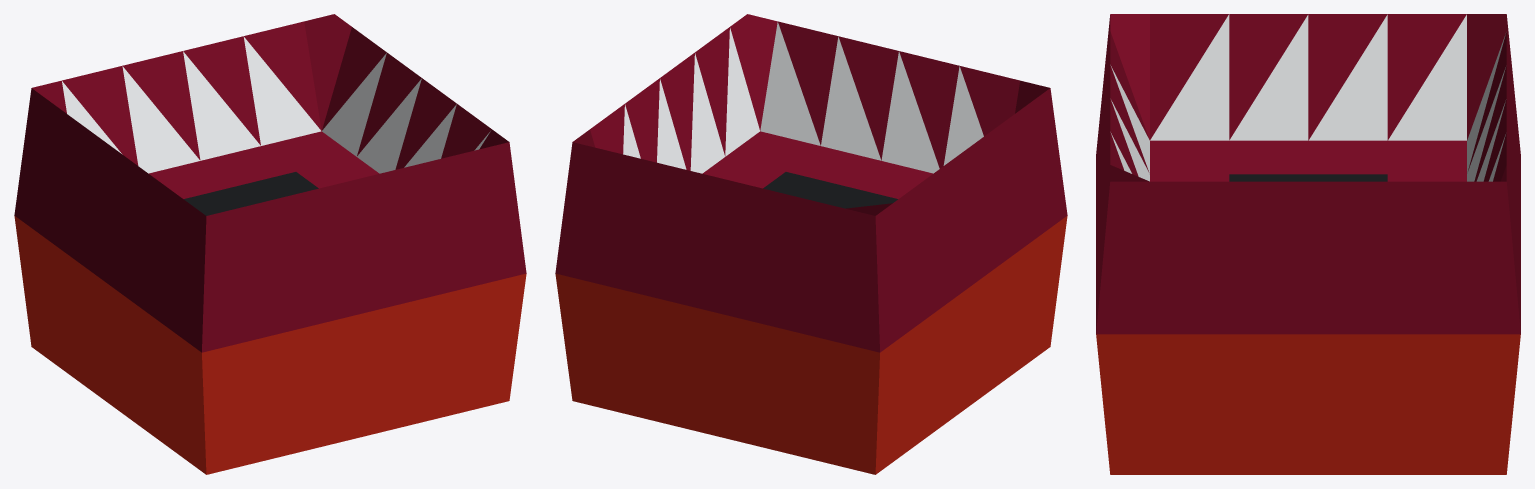
Rendered from enemy_swallower_e.gltf.
3 views of the same model, side by side, from view 1: azimuth 30°, elevation 25°; view 2: azimuth 150°, elevation 25°; view 3: azimuth 270°, elevation 25° (orthographic). The views are drawn at different scales.
Visible parts, largest first — view 1: enemy_swallower_e; view 2: enemy_swallower_e; view 3: enemy_swallower_e.
Boxes of the visible parts, x1=… form: enemy_swallower_e: x1=14, y1=14, x2=526, y2=474; enemy_swallower_e: x1=555, y1=14, x2=1067, y2=474; enemy_swallower_e: x1=1096, y1=14, x2=1520, y2=474.
Bounding box in the file's own units: 5.25 × 4 × 5.25.
